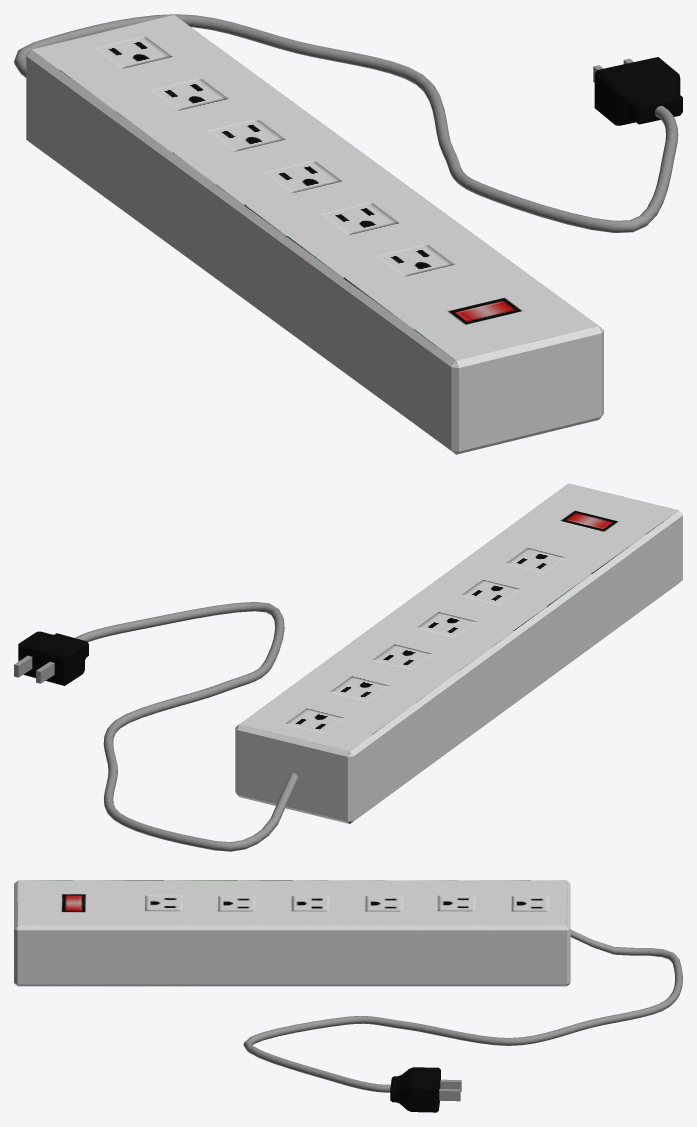
File: electric strip.FBX
The picture shows the model from 3 angles, top to bottom: view 1: azimuth 30°, elevation 25°; view 2: azimuth 150°, elevation 25°; view 3: azimuth 270°, elevation 25°; orthographic projection. The views are drawn at different scales.
Visible parts, largest first — view 1: Box001, Line001, Box002; view 2: Box001, Line001, Box002; view 3: Box001, Line001, Box002.
Boxes of the visible parts, x1=… form: Box001: x1=26, y1=15, x2=603, y2=454; Line001: x1=14, y1=14, x2=678, y2=232; Box002: x1=593, y1=57, x2=682, y2=125; Box001: x1=235, y1=483, x2=682, y2=823; Line001: x1=75, y1=602, x2=298, y2=851; Box002: x1=14, y1=631, x2=88, y2=685; Box001: x1=14, y1=880, x2=570, y2=986; Line001: x1=243, y1=930, x2=682, y2=1092; Box002: x1=390, y1=1067, x2=461, y2=1112.
Size of the model in its own units: 29.14 by 5.34 by 48.91.
Materials: 4 (3 with a texture image).
